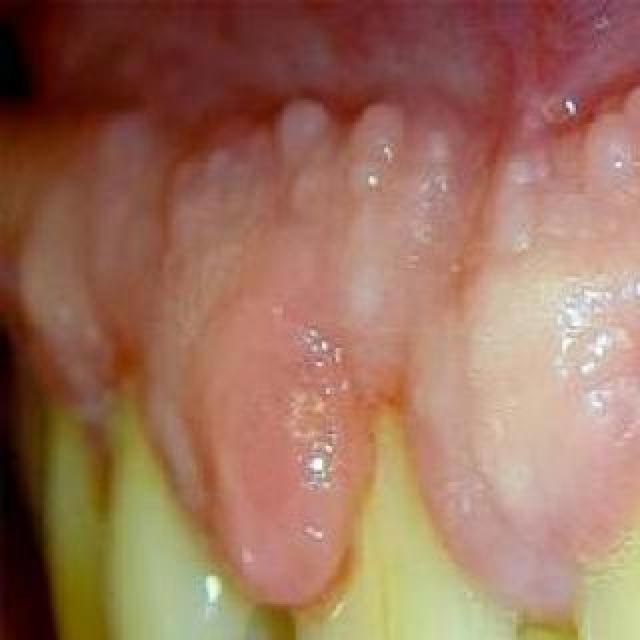spacing: (190, 566, 324, 640), (472, 580, 626, 640)
